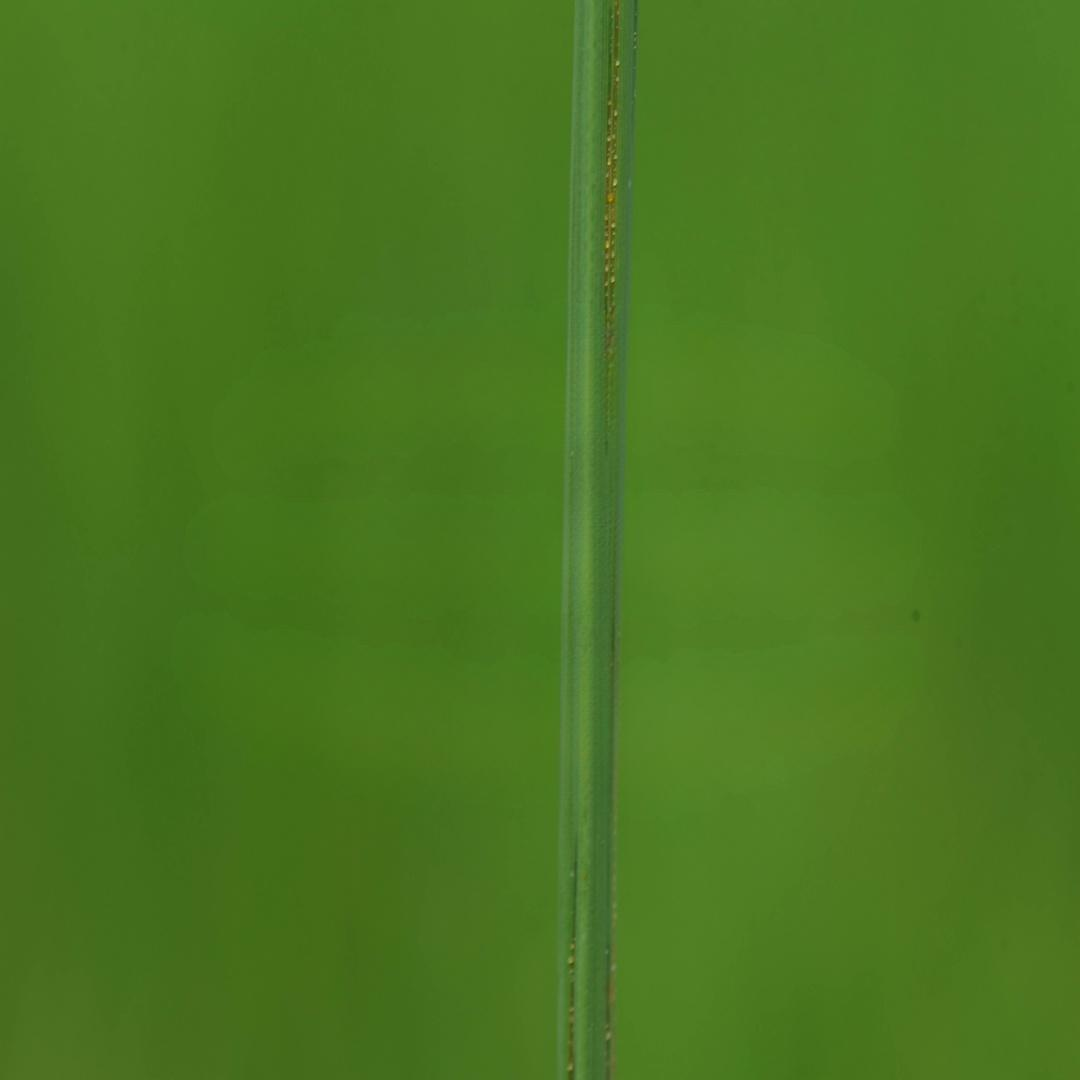BLS: (604, 0, 620, 362), (566, 836, 577, 1079), (606, 947, 611, 1079)
